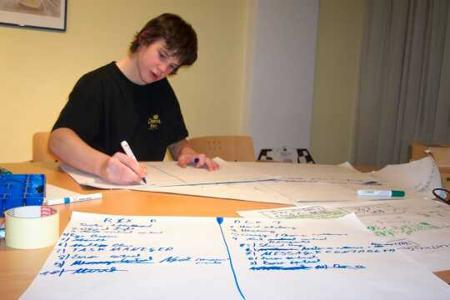person: (52, 13, 223, 184)
